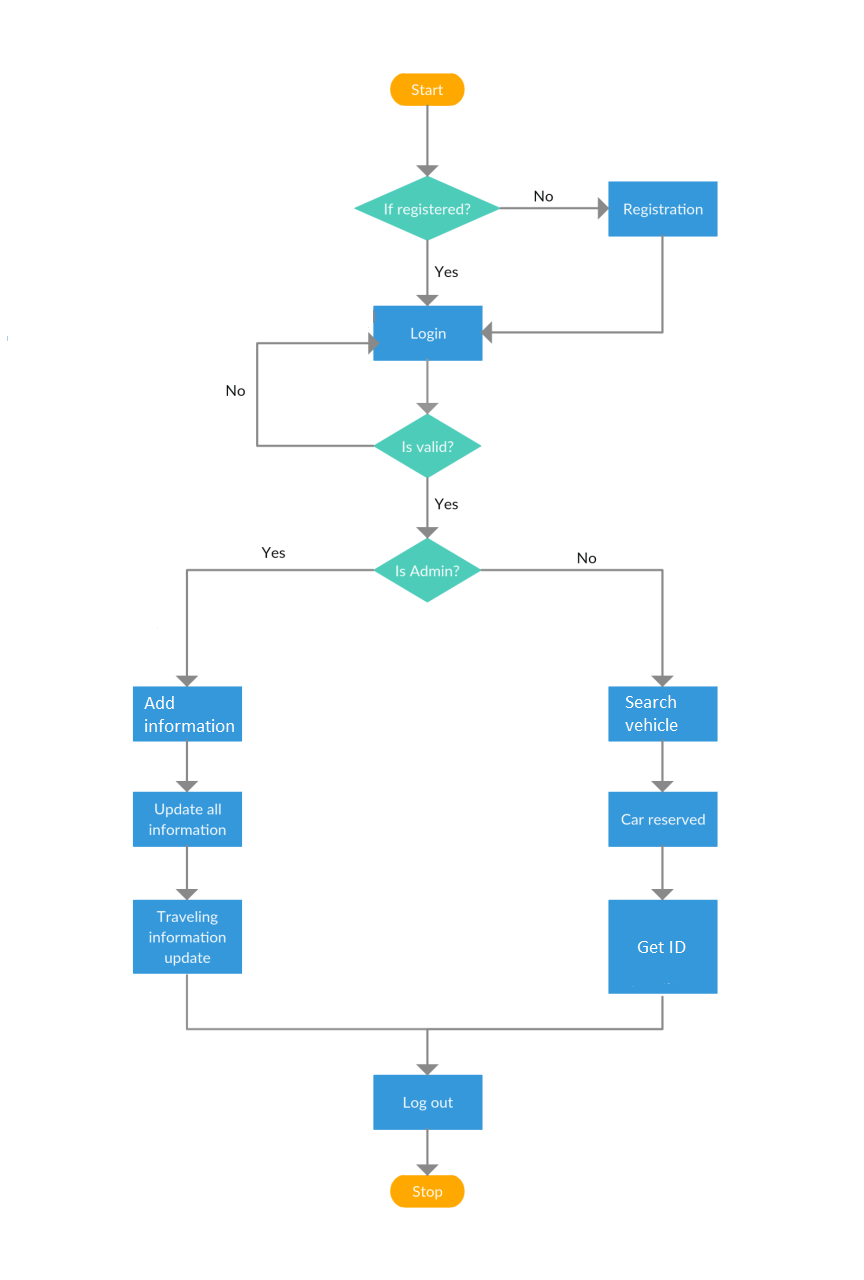arrow: (179, 974, 442, 1082), (475, 561, 673, 690), (175, 566, 377, 690), (409, 1000, 668, 1074), (489, 195, 613, 218), (171, 737, 201, 794), (171, 845, 201, 902), (417, 477, 442, 543), (417, 238, 440, 305), (417, 362, 442, 418), (652, 739, 677, 794), (417, 107, 436, 175), (415, 1133, 440, 1180), (654, 845, 673, 902)
decision: (356, 171, 499, 242), (373, 414, 485, 481), (375, 537, 481, 602)
process: (605, 896, 722, 998), (130, 896, 246, 980), (603, 788, 722, 853), (601, 684, 722, 747), (128, 788, 244, 853), (611, 175, 720, 242), (371, 301, 483, 364), (369, 1070, 485, 1129), (128, 682, 246, 739)
terminator: (385, 1174, 468, 1208), (391, 73, 468, 109)
text: (144, 908, 234, 966), (134, 694, 238, 739), (136, 798, 232, 841), (620, 688, 685, 735), (389, 557, 464, 586), (617, 806, 711, 829), (381, 201, 477, 220), (393, 434, 460, 458), (397, 1094, 462, 1115), (632, 937, 693, 959), (405, 77, 450, 101), (409, 318, 454, 342), (254, 543, 293, 565), (430, 260, 466, 283), (564, 547, 607, 566), (428, 495, 466, 515), (526, 187, 562, 207), (407, 1186, 452, 1202), (219, 383, 252, 401)
